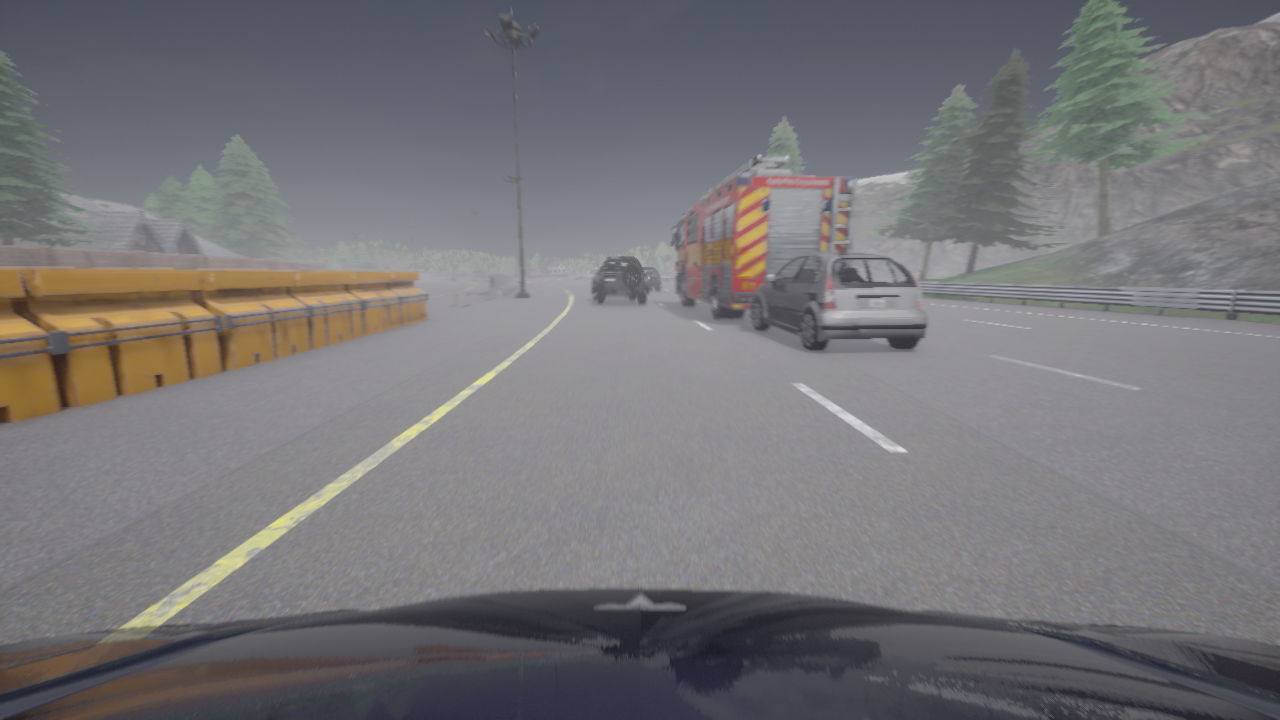cyclist: (0, 588, 1279, 719), (671, 154, 856, 318), (750, 251, 927, 350), (592, 256, 648, 303), (642, 267, 660, 290), (605, 293, 628, 295)
